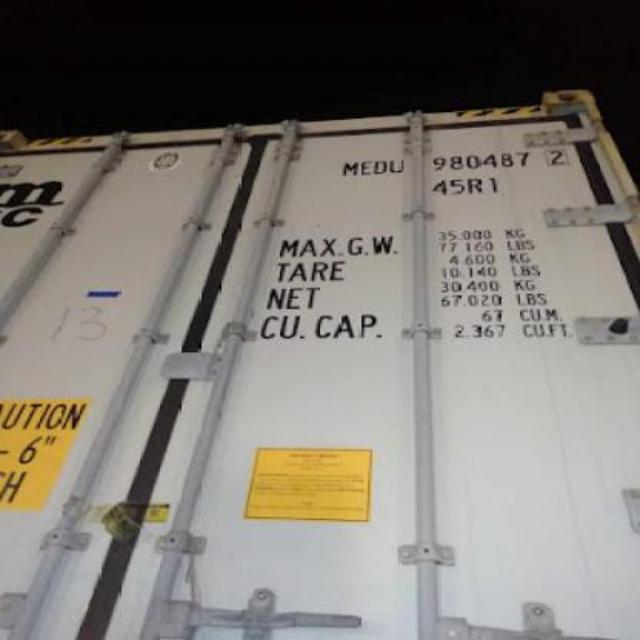0: (462, 148, 480, 174)
2: (546, 147, 568, 165)
4: (480, 149, 500, 175)
7: (512, 147, 530, 176)
8: (448, 149, 464, 175), (500, 147, 512, 176)
9: (428, 152, 448, 172)
D: (372, 146, 386, 178)
E: (356, 150, 372, 180)
M: (338, 154, 358, 182)
U: (388, 150, 404, 180)
